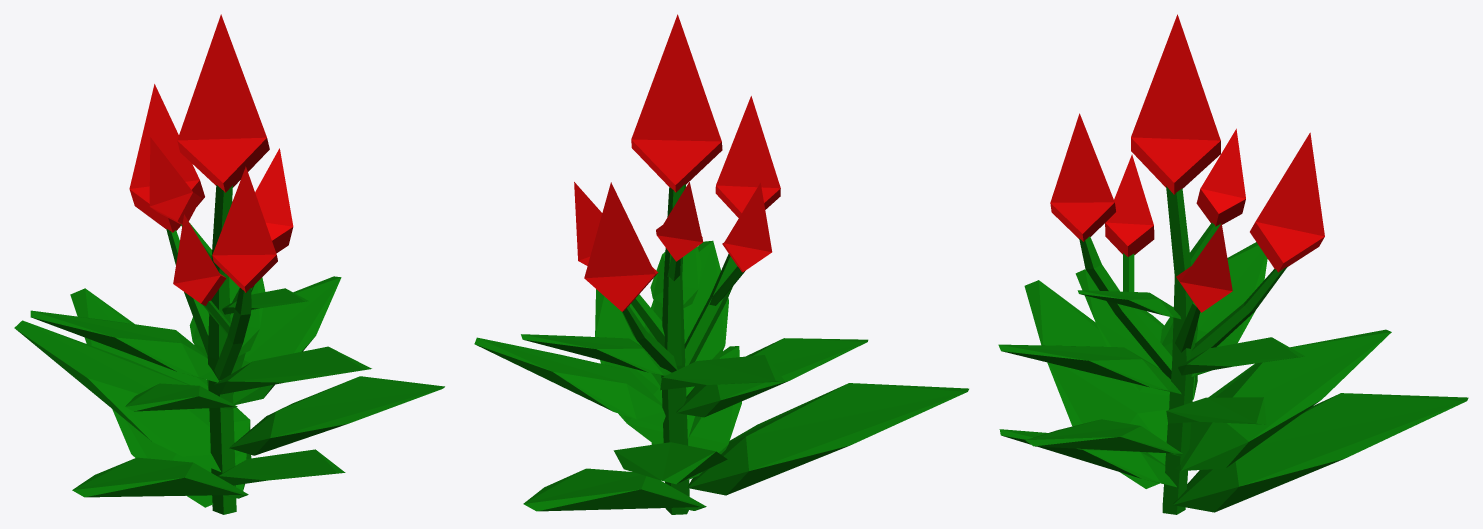
Rendered from dragonBreath.fbx.
3 views of the same model, side by side, from view 1: azimuth 30°, elevation 25°; view 2: azimuth 150°, elevation 25°; view 3: azimuth 270°, elevation 25° (orthographic).
Parts seen in each view (by area): view 1: Icosphere.001; view 2: Icosphere.001; view 3: Icosphere.001.
Boxes of the visible parts, x1,y1,x2,y2 form: Icosphere.001: (14,14,444,514); Icosphere.001: (474,14,968,514); Icosphere.001: (998,14,1468,514).
Size of the model in its own units: 68.65 by 85.72 by 73.82.
